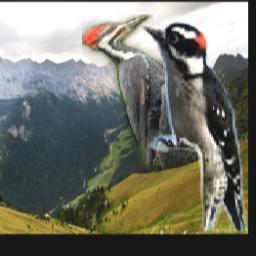Woodpecker: (142, 20, 246, 231), (81, 15, 168, 165)
